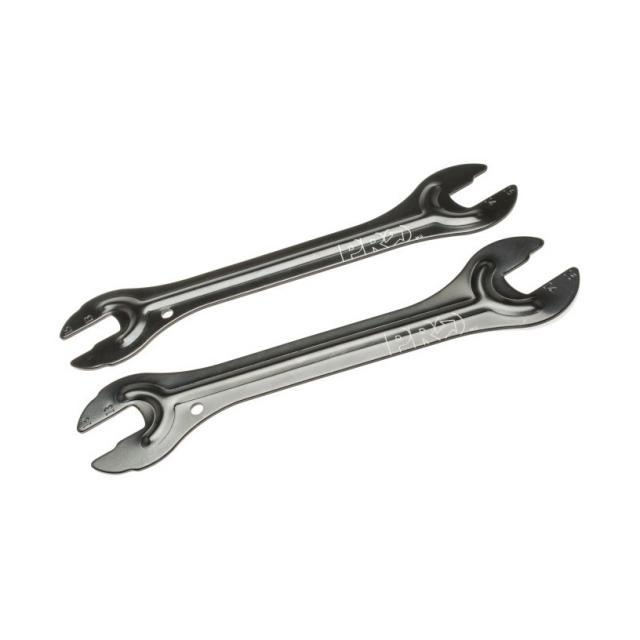wrench: (72, 233, 584, 477), (58, 160, 520, 372)
